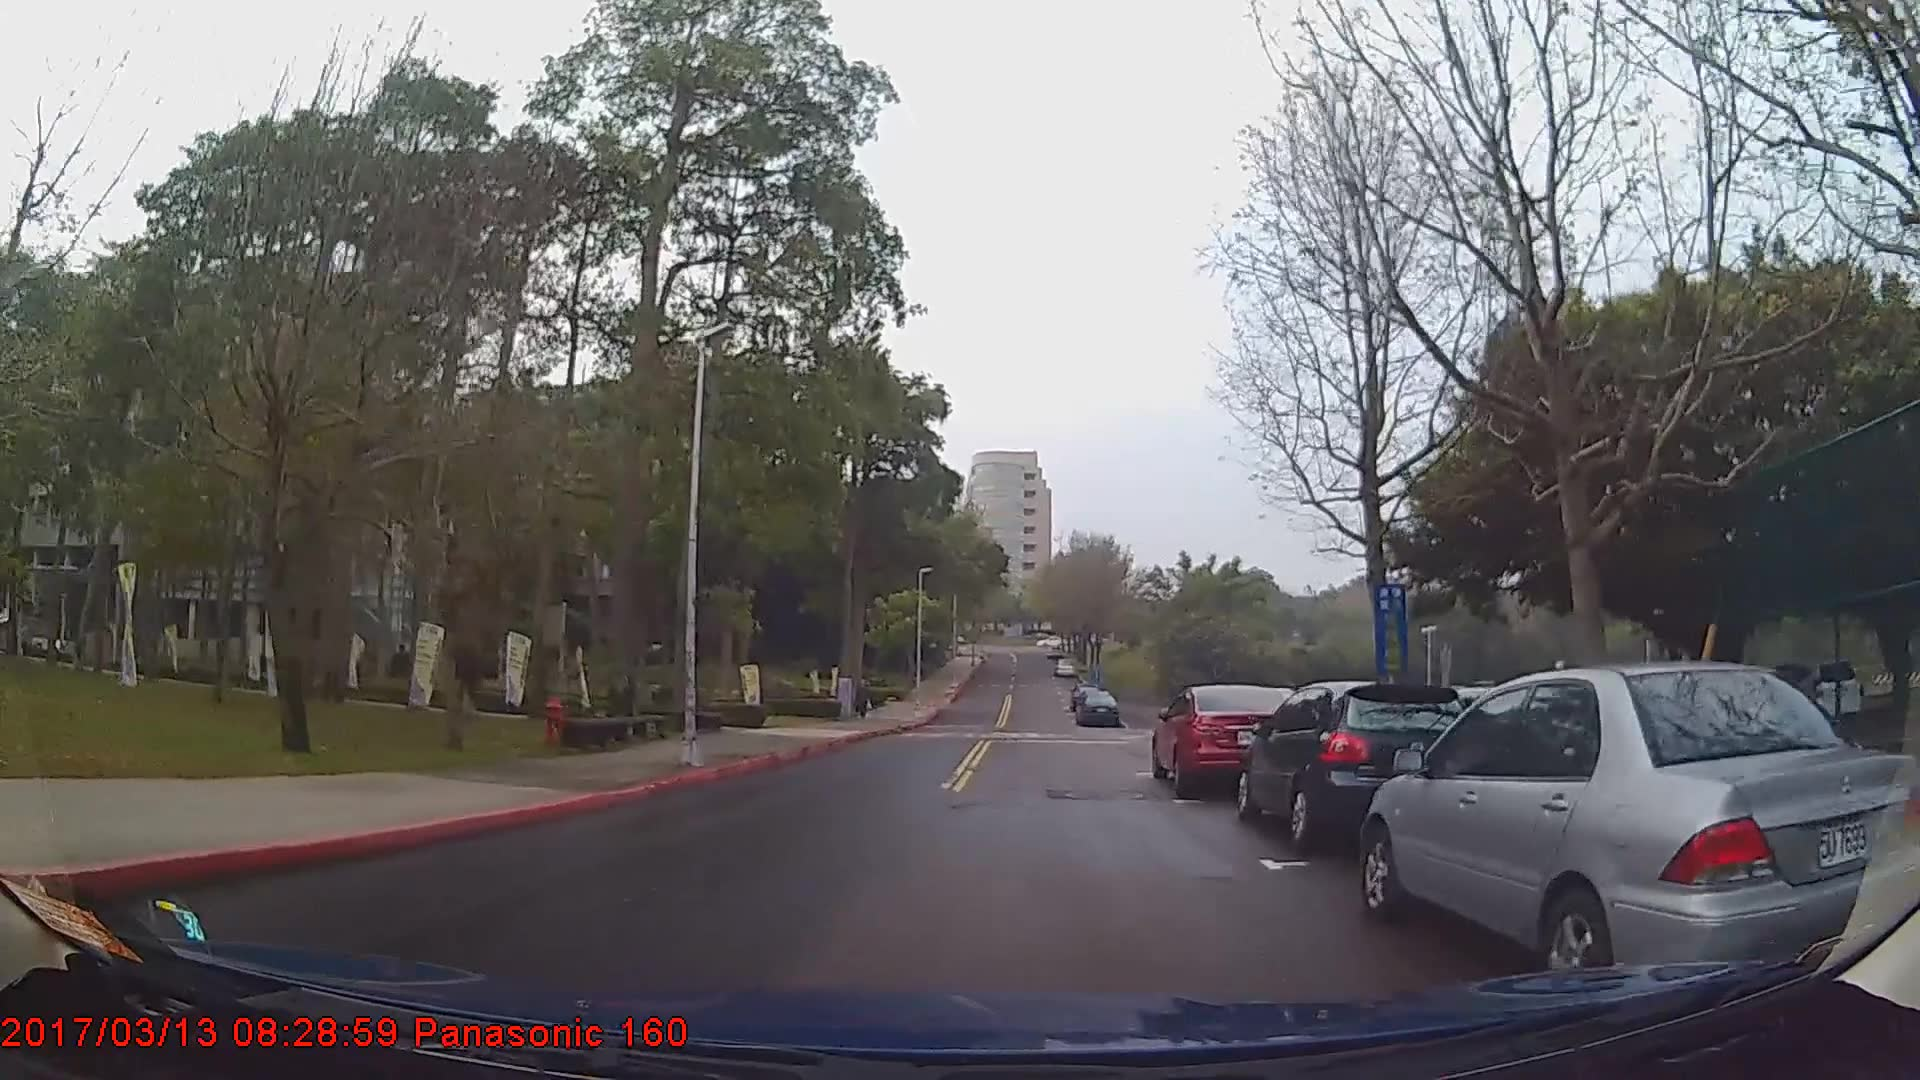vehicle: (1361, 661, 1920, 1004), (1237, 676, 1481, 840), (1150, 679, 1303, 795), (1764, 658, 1863, 719), (1076, 687, 1122, 725)
